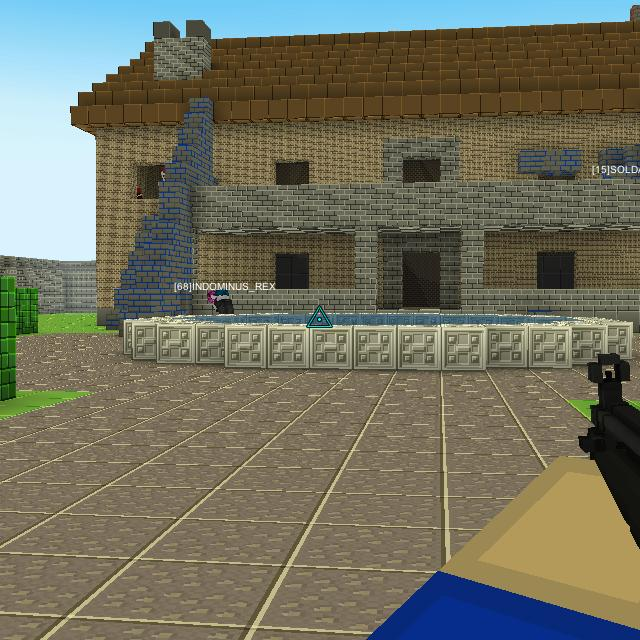enemy: (159, 166, 166, 182), (136, 186, 143, 200)
